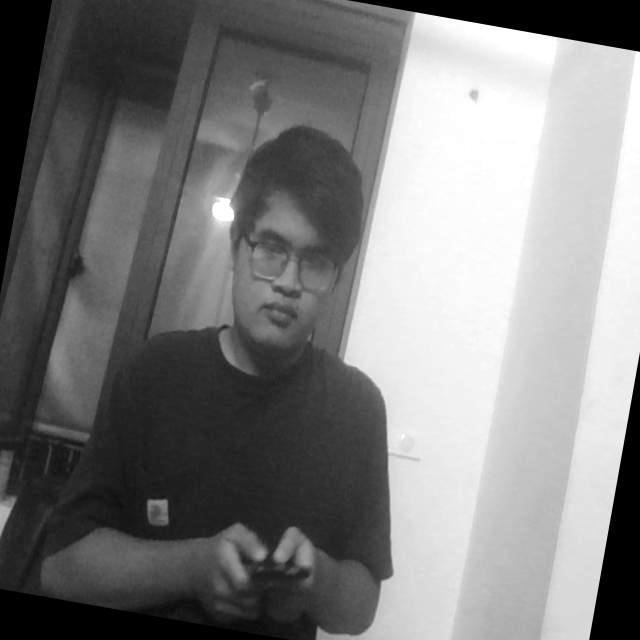phone: (222, 526, 325, 610)
